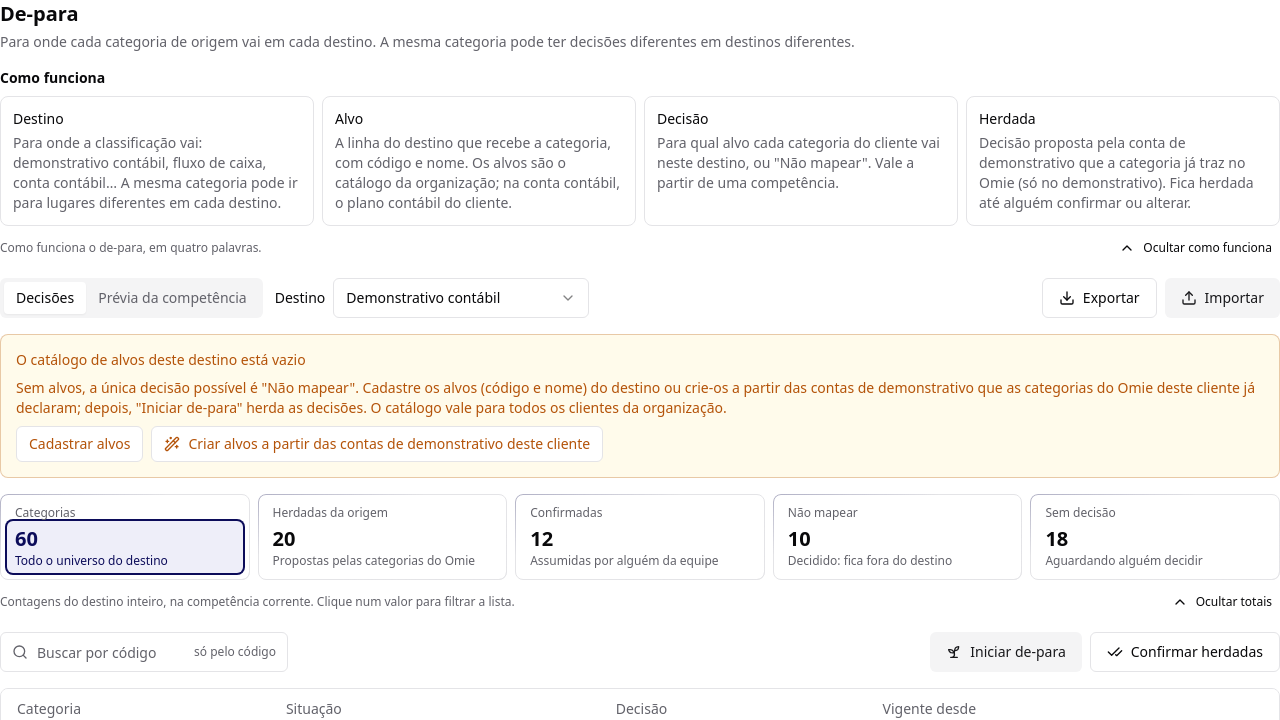
Test: ClientMappingScreen — catálogo vazio e alvos da origem (86e3n70pn) › cliente sem as categorias do Omie sincronizadas: aponta a tela de categorias
The image size is (1280, 720).
Click the button "a partir das contas de demonstrativo": {"x": 377, "y": 444} [152,426,603,462]
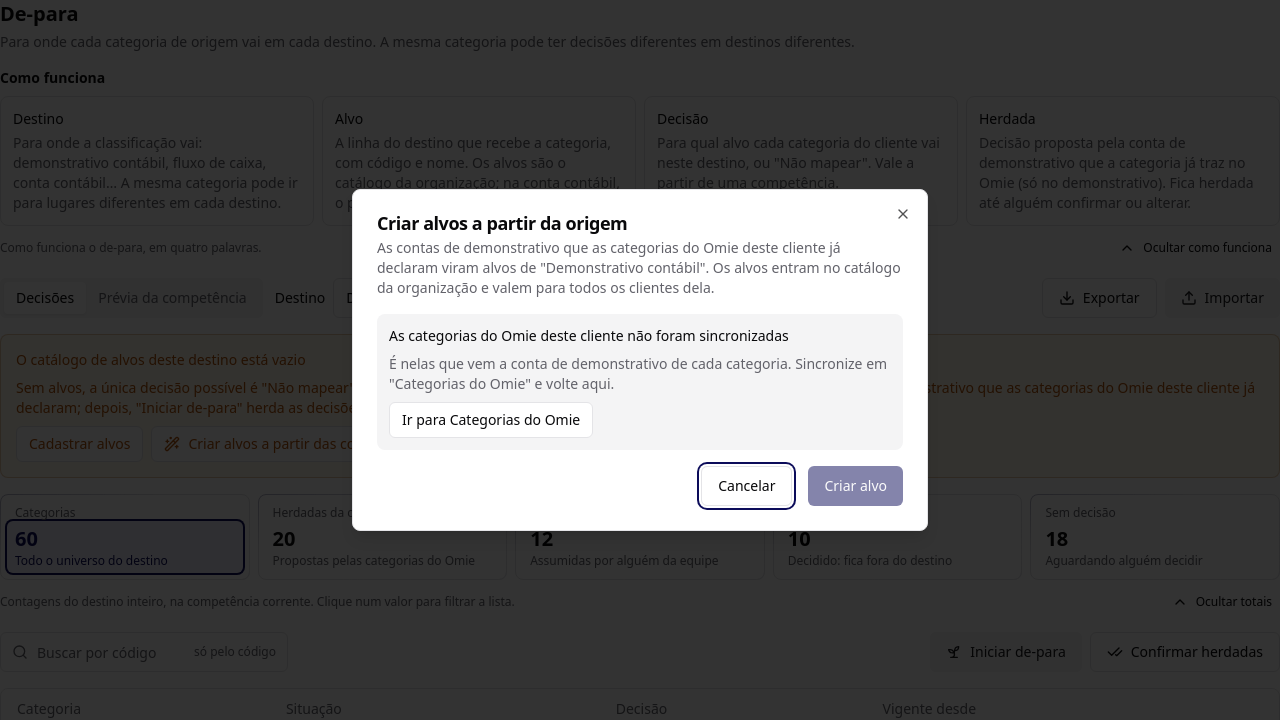
Check: the button "Criar alvo" is disabled, box [808,466,903,506]
